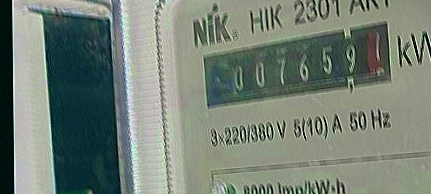0: (233, 62, 246, 90), (254, 59, 267, 87)
1: (371, 31, 384, 62)
5: (319, 44, 335, 76)
6: (297, 51, 311, 82)
7: (274, 53, 289, 85)
9: (343, 40, 359, 75)
screen: (189, 15, 411, 112)
